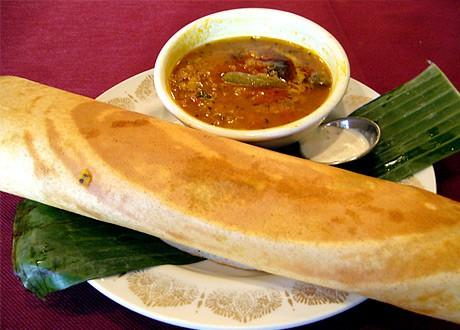CoconutChutney: (301, 127, 369, 162)
Dosa: (0, 77, 460, 322)
